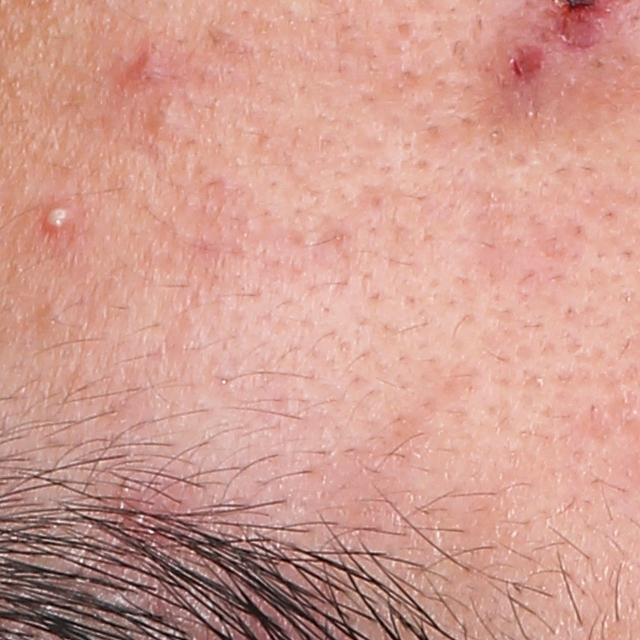comedo: (154, 100, 185, 132)
papule: (493, 32, 555, 95), (126, 50, 175, 92)
pustule: (26, 194, 80, 244)
